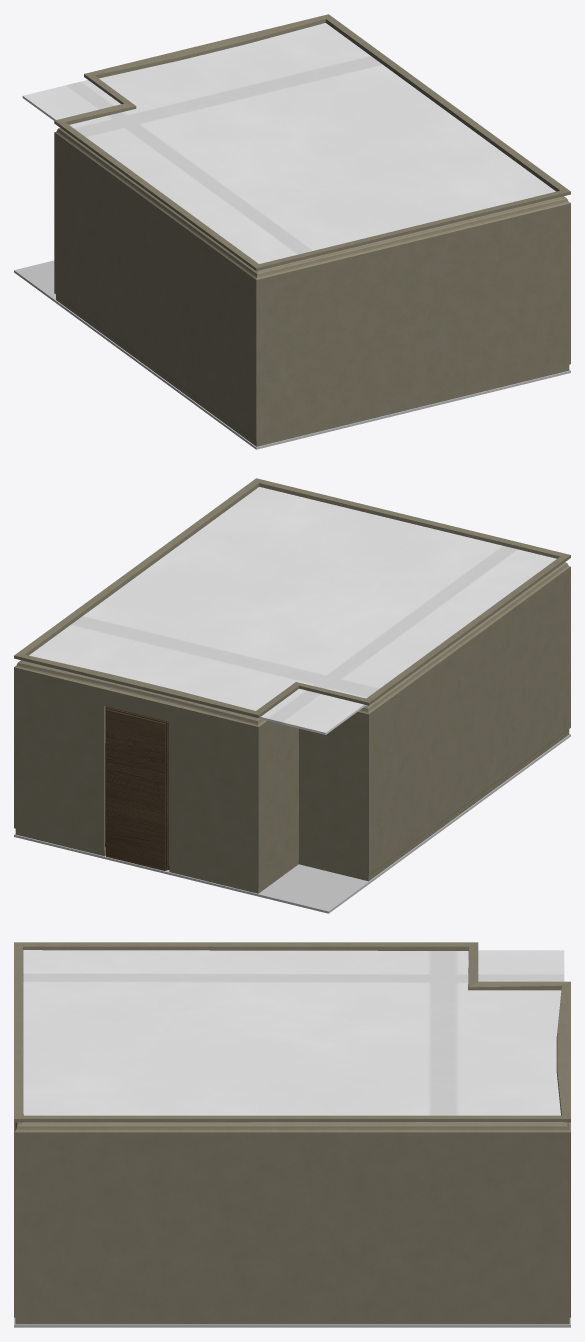
The model's file is RoomFor270.fbx.
3 views of the same model, one above another, from view 1: azimuth 30°, elevation 25°; view 2: azimuth 150°, elevation 25°; view 3: azimuth 270°, elevation 25° (orthographic). The views are drawn at different scales.
Visible parts, largest first — view 1: Room, Ceiling, Floor; view 2: Room, Ceiling, Door, Floor; view 3: Room, Ceiling, Floor.
Boxes of the visible parts, <box> form: Room: <box>54,14,570,446</box>; Ceiling: <box>22,23,555,263</box>; Floor: <box>14,260,570,449</box>; Room: <box>14,478,570,893</box>; Ceiling: <box>22,487,556,734</box>; Door: <box>105,706,169,870</box>; Floor: <box>14,734,570,913</box>; Room: <box>14,942,570,1324</box>; Ceiling: <box>23,950,564,1122</box>; Floor: <box>14,1317,570,1327</box>.
Size of the model in its own units: 450 by 248 by 600.
